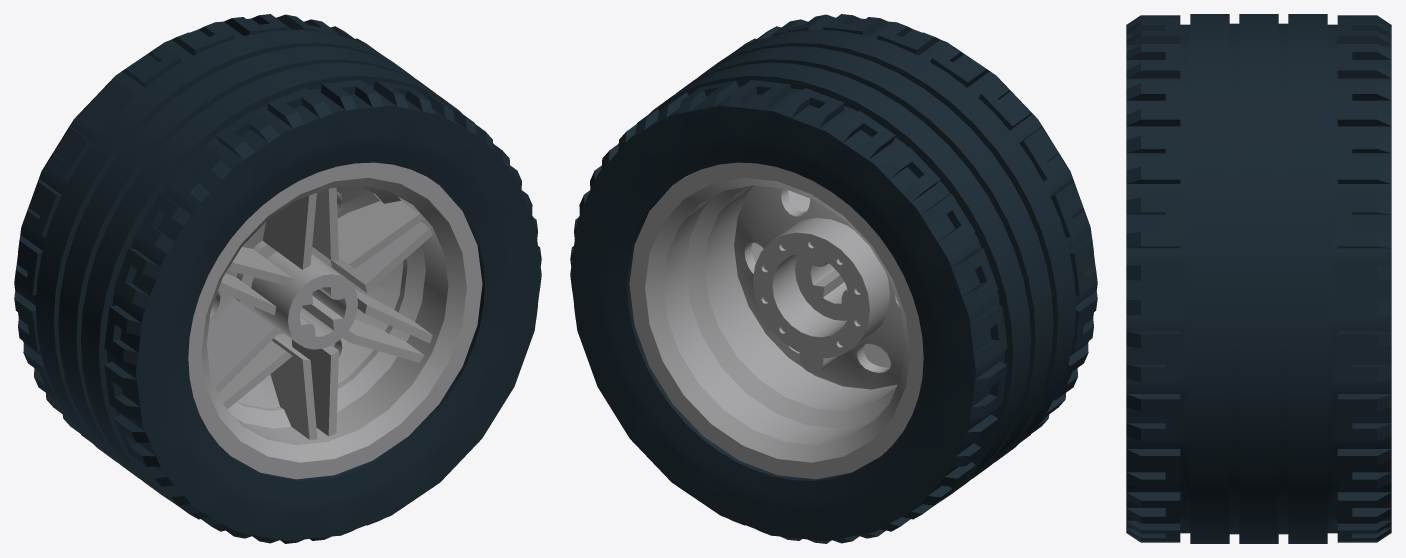
File: wheel_43.glb
3 renders of one model, left to right at view 1: azimuth 30°, elevation 25°; view 2: azimuth 150°, elevation 25°; view 3: azimuth 270°, elevation 25°, orthographic. The views are drawn at different scales.
Parts seen in each view (by area): view 1: 44309.dat, 56145.dat; view 2: 44309.dat, 56145.dat; view 3: 44309.dat.
Part boxes in pixels (bbox=[...]): 44309.dat: bbox=[14, 14, 541, 543]; 56145.dat: bbox=[188, 162, 482, 479]; 44309.dat: bbox=[570, 14, 1097, 543]; 56145.dat: bbox=[629, 162, 923, 479]; 44309.dat: bbox=[1126, 14, 1391, 543].
Bounding box in the file's own units: 2.16 × 2.16 × 1.08.
